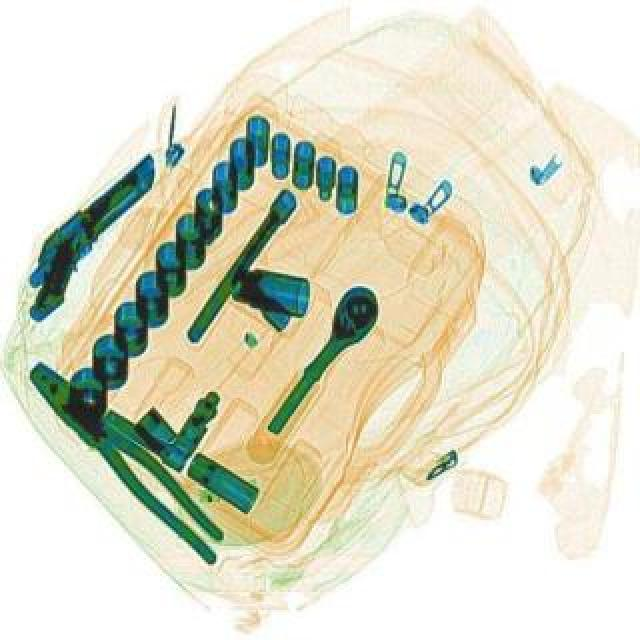gun: (0, 154, 196, 314)
wrench: (14, 352, 242, 568)
